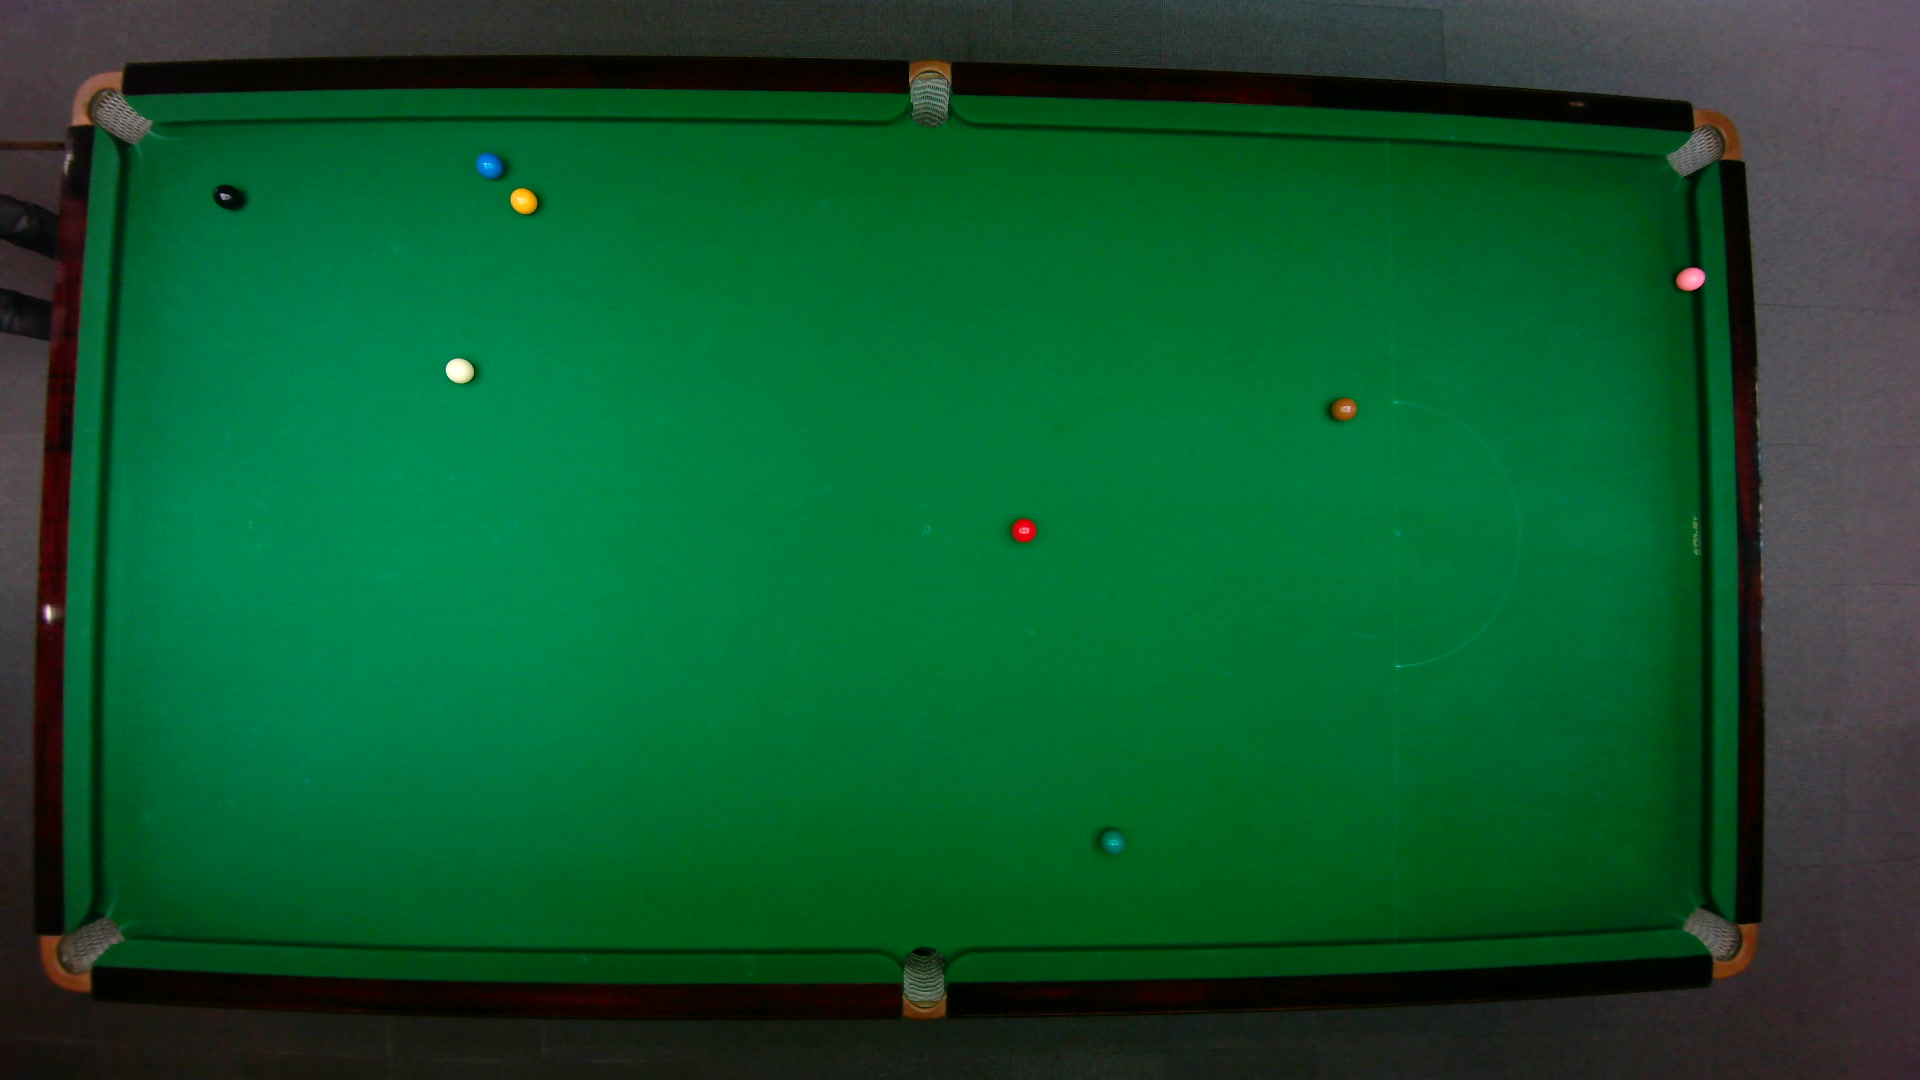bag: (37, 913, 125, 992), (69, 69, 153, 144), (1679, 905, 1758, 978), (1663, 107, 1741, 177), (901, 944, 945, 1021), (909, 57, 949, 128)
black: (211, 182, 243, 210)
blue: (473, 152, 502, 179)
brown: (1328, 396, 1358, 421)
green: (1097, 827, 1127, 855)
pink: (1673, 264, 1706, 291)
red: (1007, 516, 1036, 543)
white: (443, 356, 475, 384)
yellow: (506, 185, 538, 215)
zone: (1391, 400, 1520, 669)
